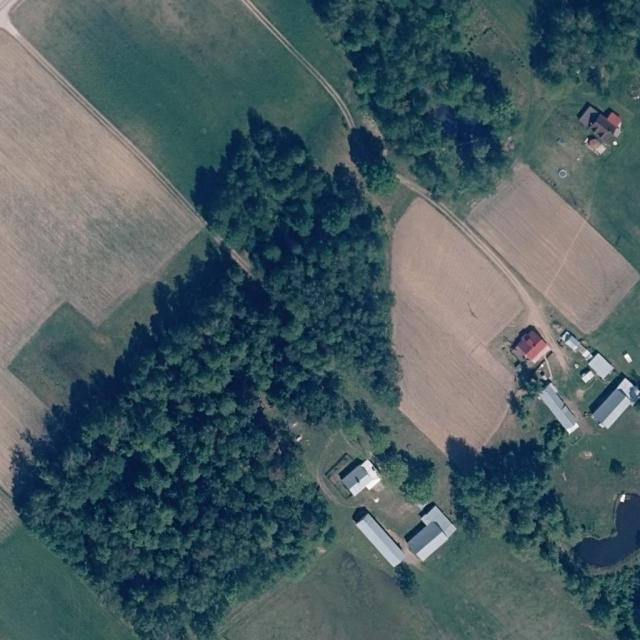agricultural_land: (389, 195, 527, 451)
greenland: (0, 100, 500, 640), (445, 420, 576, 555)
